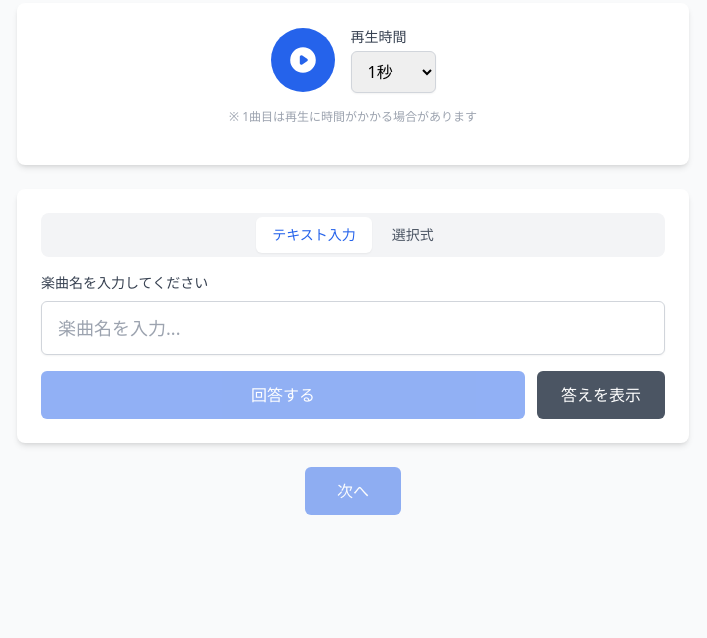
Test case: QuizPlayer - 不正解時の再選択機能 › 「答えを表示」ボタンで解答エリアが表示されること
The image size is (707, 638).
# 「答えを表示」ボタンをクリック
Click the button "答えを表示".
click(601, 395)  # box [537,371,665,419]
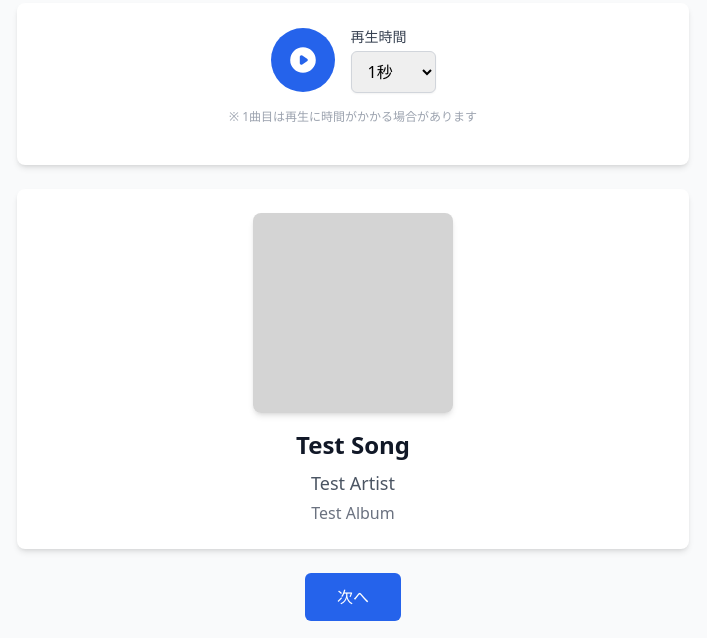
Expected: the heading "Test Song" is shown, [296,428,410,461]
Expected: the text "Test Artist" is shown, [311,471,395,495]
Expected: the text "Test Album" is shown, [311,502,395,524]
